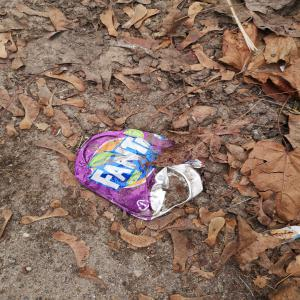Can: (72, 127, 211, 225)
